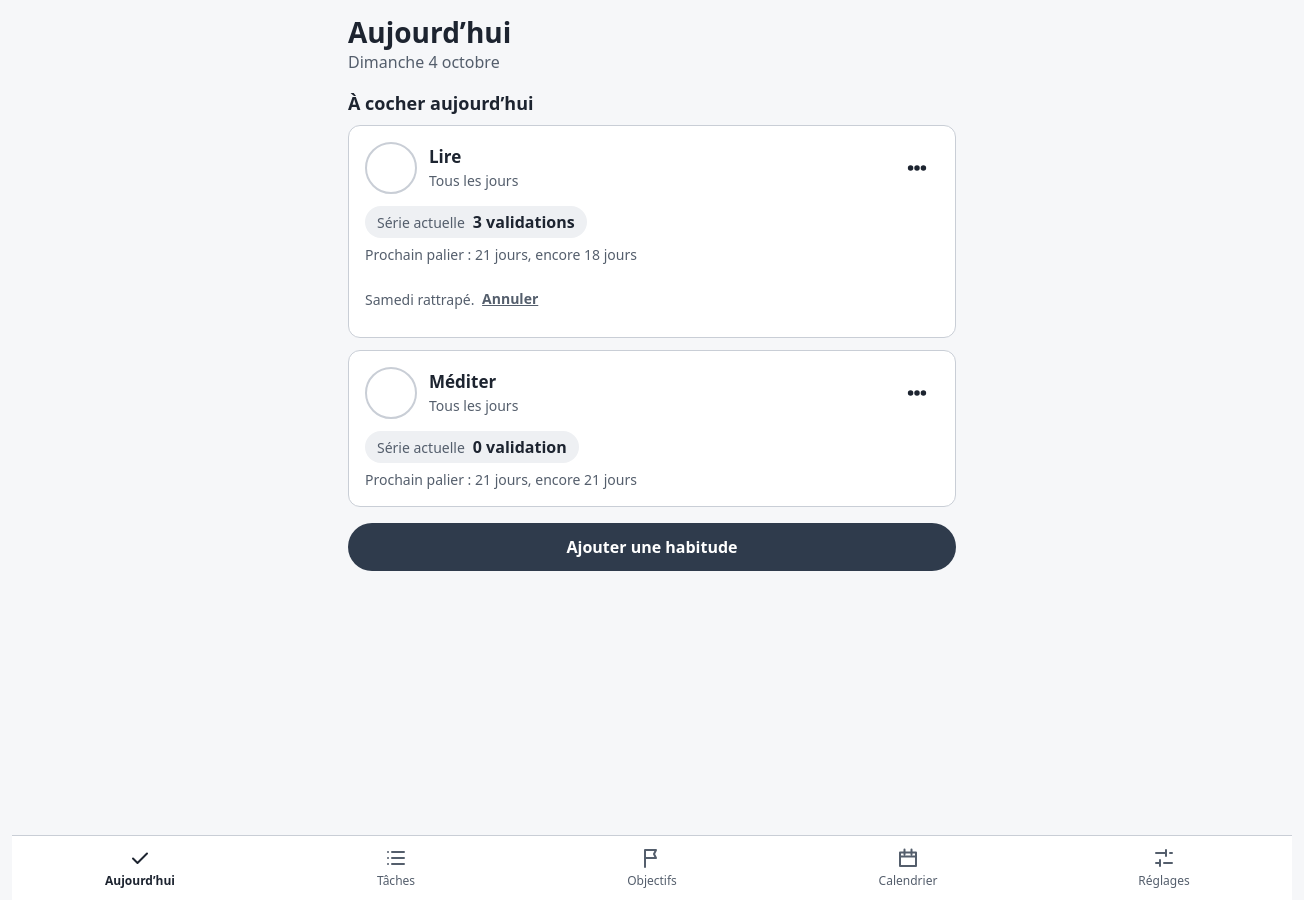
Test: calendrier : vue par habitude › affiche la série actuelle, la meilleure série et les séries consécutives
Check: the heading "Aujourd’hui" is shown, box [348,13,511,51]
Click the button "Calendrier" at (908, 868), box [780,836,1036,899]
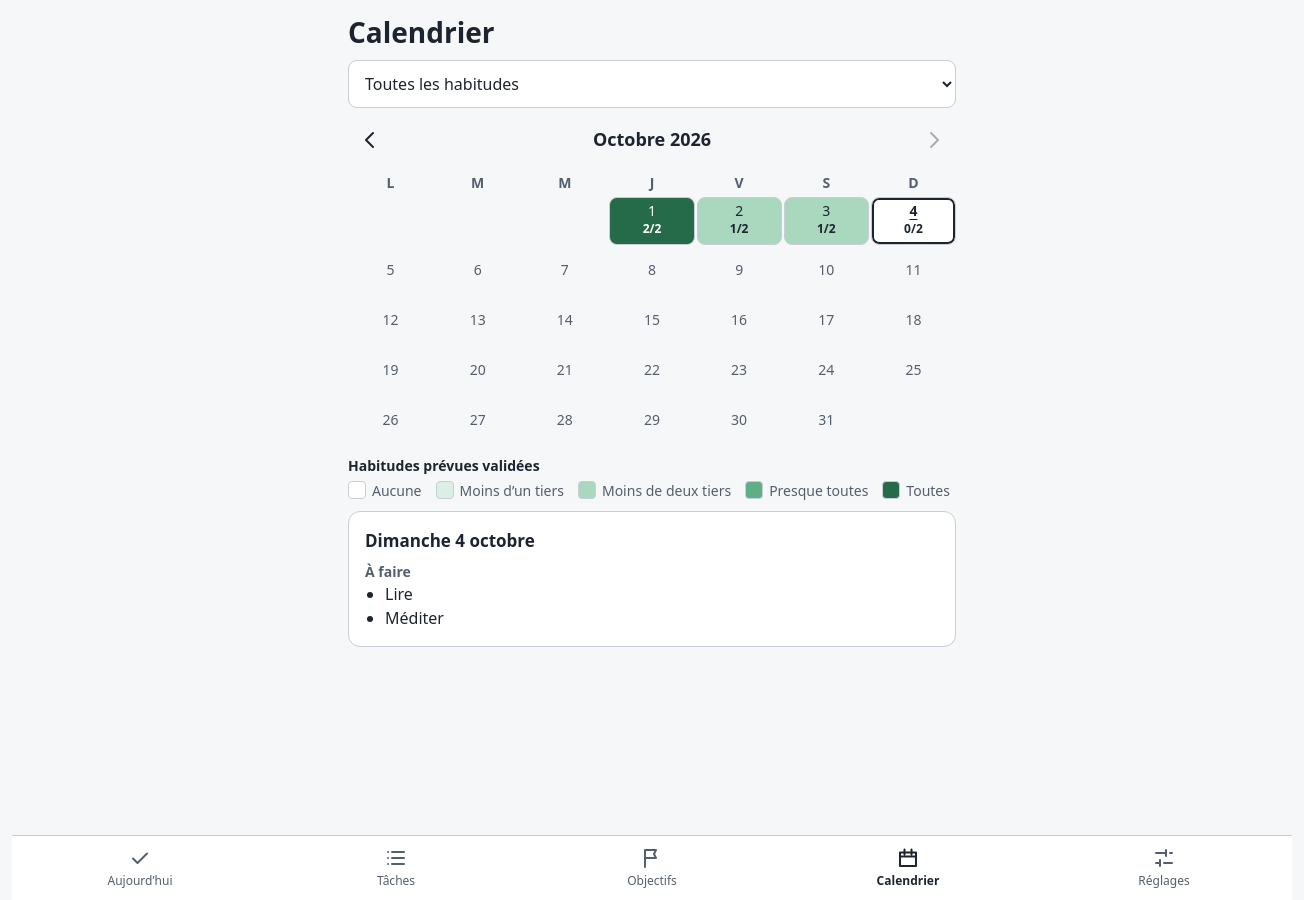
Select "Lire" in the dropdown named "Afficher" at (652, 84), box [348,60,956,108]
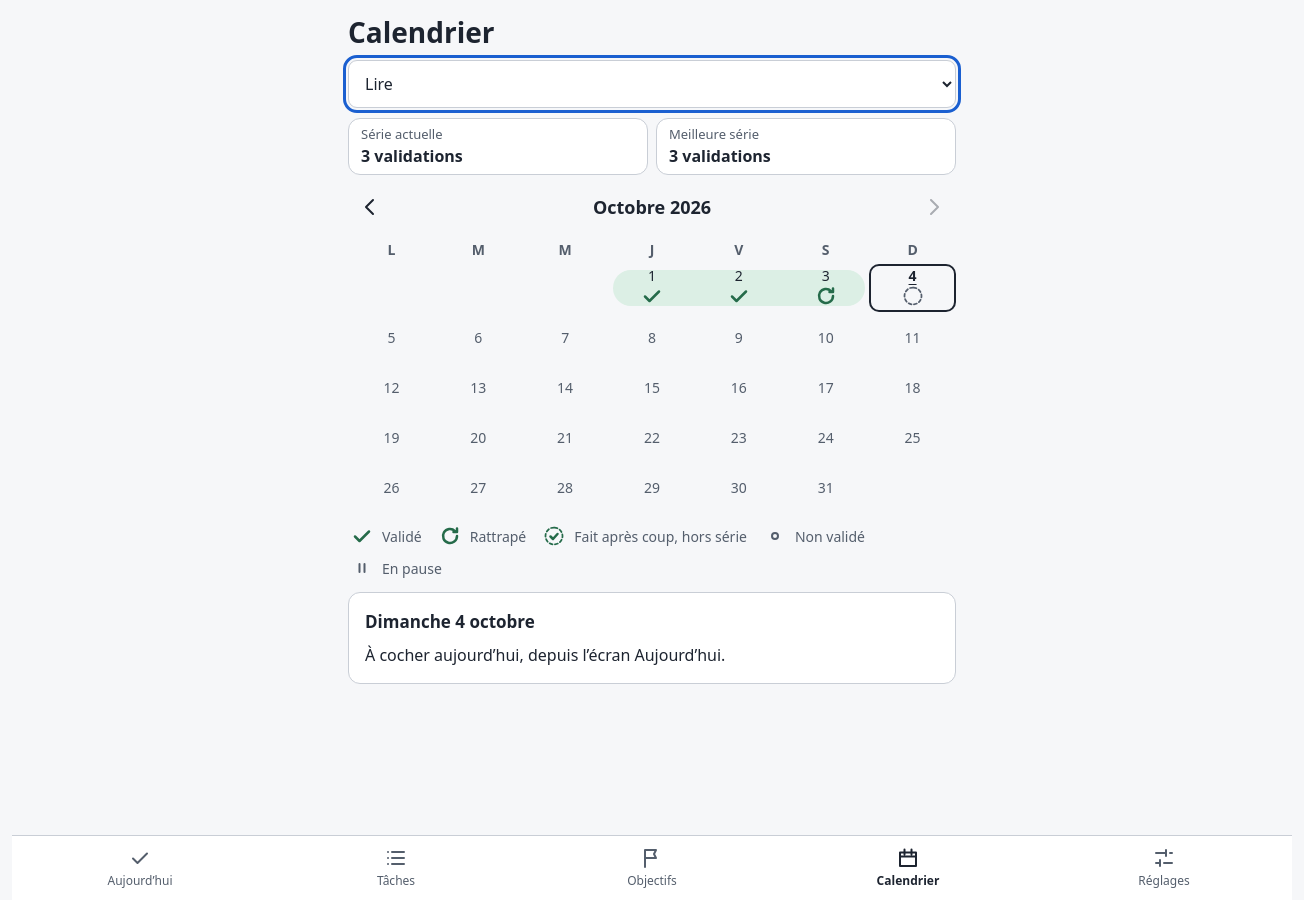
Check: the text "3 validations" below "Meilleure série" is shown, box [669,145,771,167]
